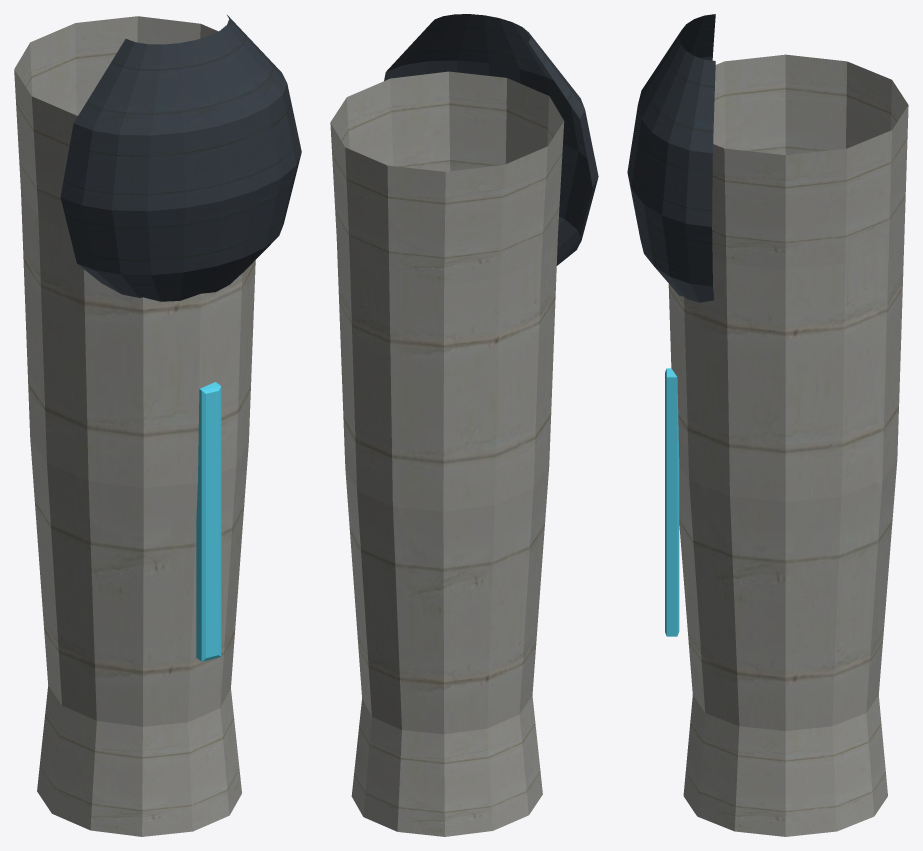
File: eq_future_2_leg.glb
The picture shows the model from 3 angles, left to right: view 1: azimuth 30°, elevation 25°; view 2: azimuth 150°, elevation 25°; view 3: azimuth 270°, elevation 25°; orthographic projection. The views are drawn at different scales.
Parts seen in each view (by area): view 1: eq_future_2_leg; view 2: eq_future_2_leg; view 3: eq_future_2_leg.
Part boxes in pixels (x1,y1,x2,y2): eq_future_2_leg: (14, 15, 301, 836); eq_future_2_leg: (330, 14, 598, 836); eq_future_2_leg: (627, 14, 908, 836).
Bounding box in the file's own units: 0.1452 × 0.468 × 0.1572.
3 materials, 3 textured.
